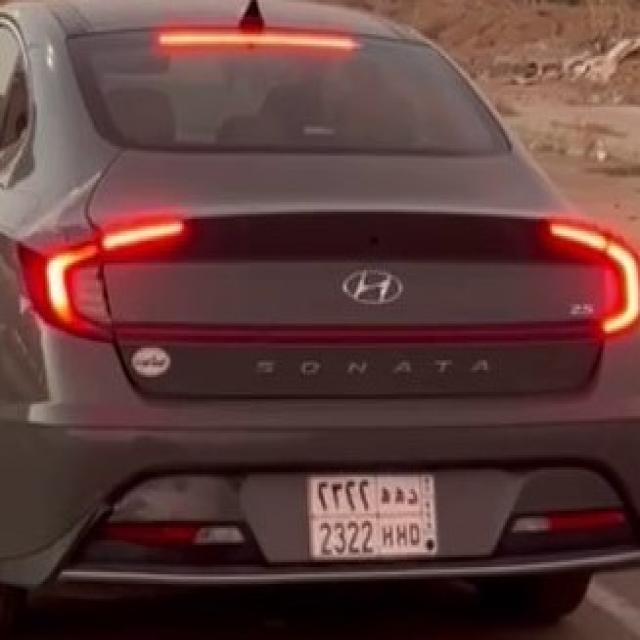Car-plate: (308, 468, 448, 568)
